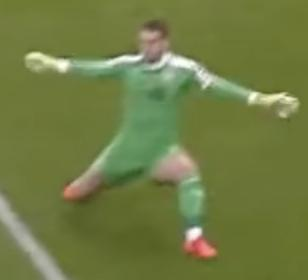goalkeeper: (8, 8, 308, 279)
